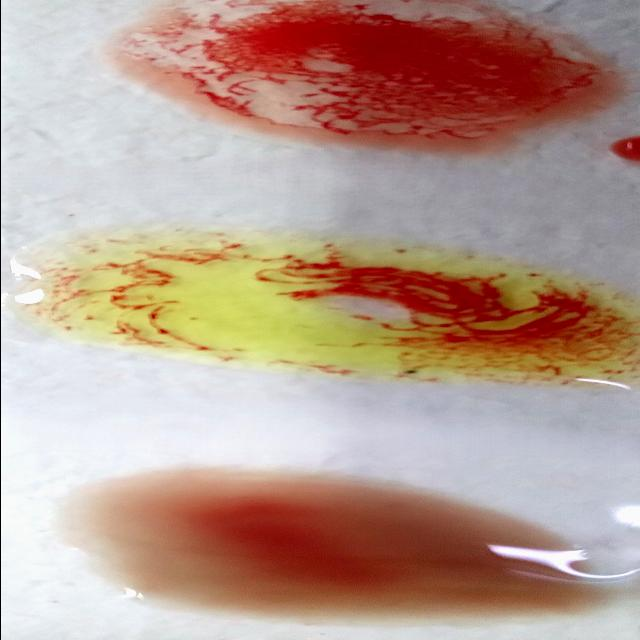B: (24, 247, 640, 375)
D: (129, 8, 622, 142)
